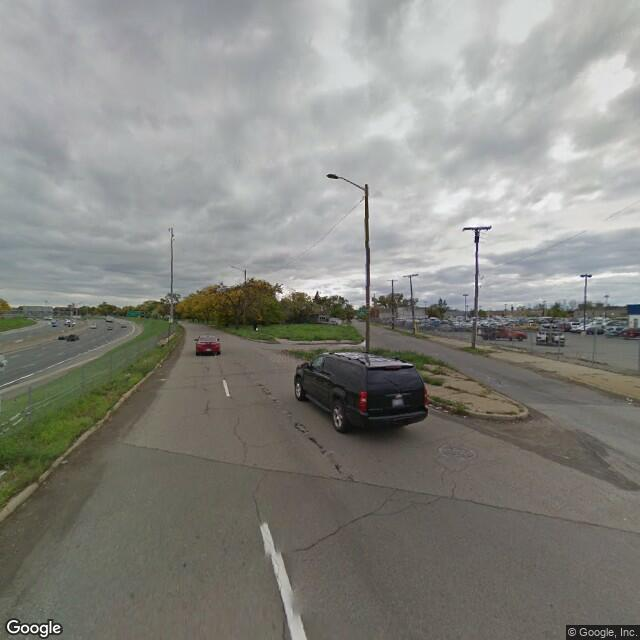litter: (436, 404, 444, 412), (61, 457, 67, 467)
